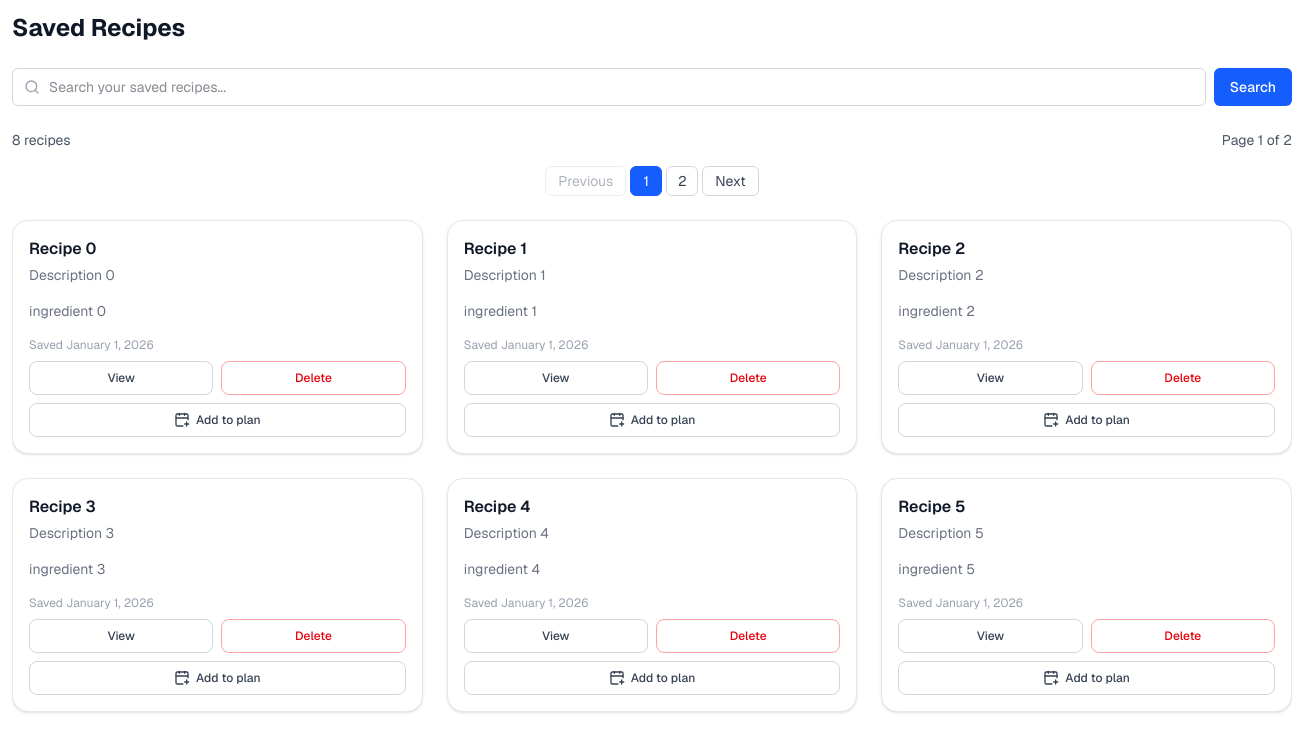
it: RecipesPage › disables Previous on the first page and Next on the last page
Expected: the button with aria-label "Go to previous page" is disabled, [545,166,626,196]
Click the button with aria-label "Go to next page". click: (730, 181)
box: [702,166,759,196]
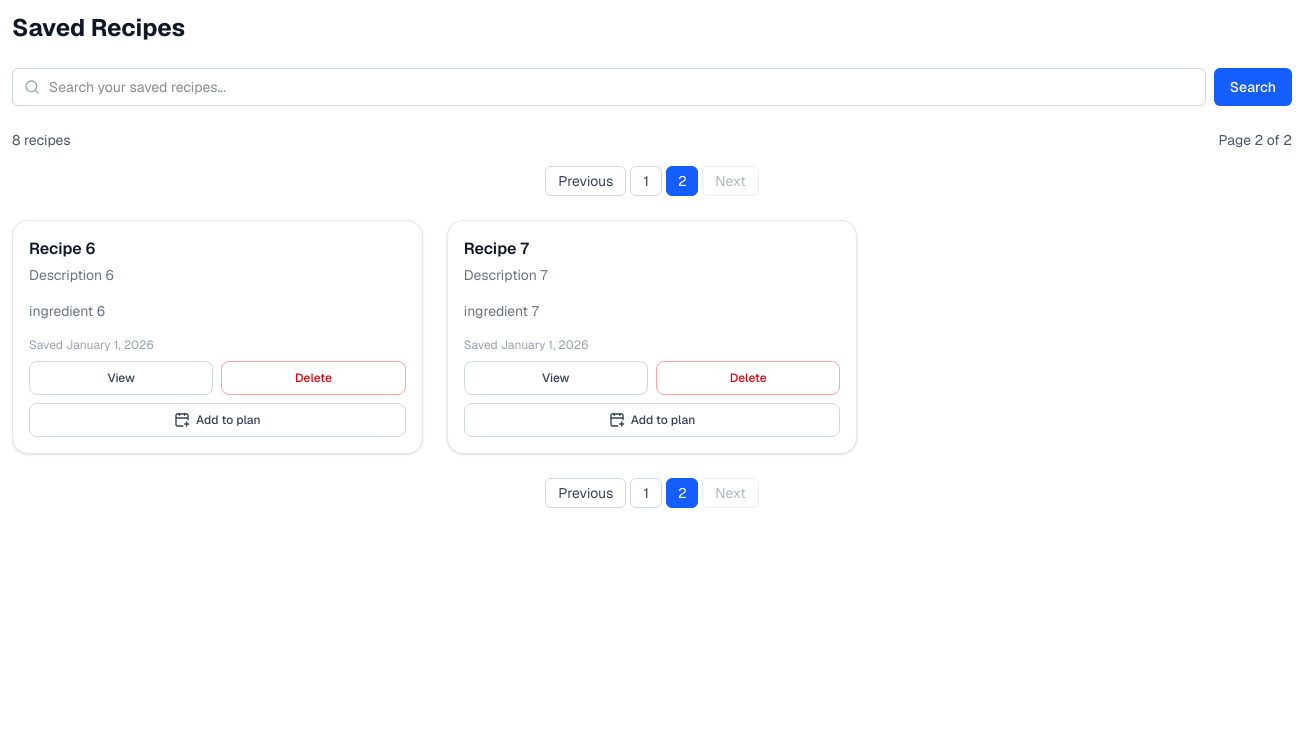
Expected: the text "Page 2 of 2" is shown, [1219,130,1292,150]
Expected: the button with aria-label "Go to next page" is disabled, [702,166,759,196]
